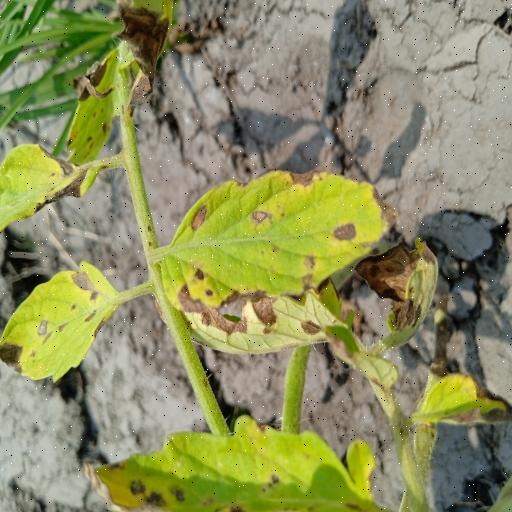Tomato_Brown_Spots: (159, 168, 395, 312), (89, 415, 386, 512), (0, 258, 125, 384)
